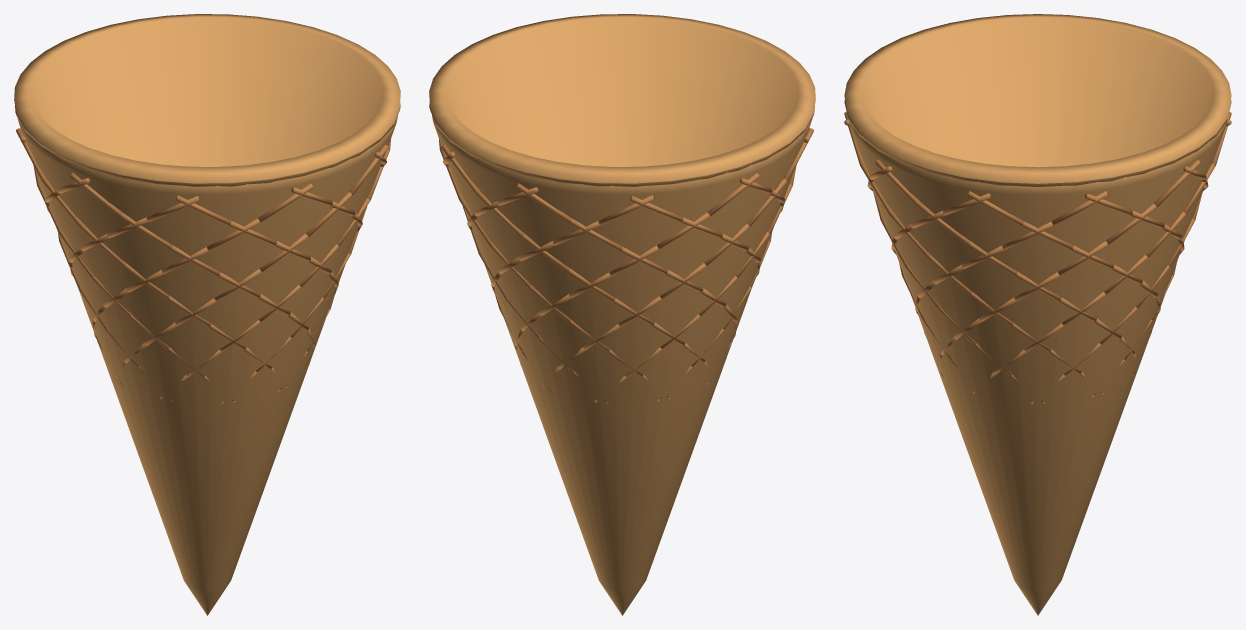
Rendered from Empty_waffle_cone.fbx.
3 views of the same model, side by side, from view 1: azimuth 30°, elevation 25°; view 2: azimuth 150°, elevation 25°; view 3: azimuth 270°, elevation 25° (orthographic).
Parts seen in each view (by area): view 1: Toon_Empty_waffle_cone Waffle cone.001, Toon_Empty_waffle_cone Cone lip.001; view 2: Toon_Empty_waffle_cone Waffle cone.001, Toon_Empty_waffle_cone Cone lip.001; view 3: Toon_Empty_waffle_cone Waffle cone.001, Toon_Empty_waffle_cone Cone lip.001.
Boxes of the visible parts, left/top/right/bottom form: Toon_Empty_waffle_cone Waffle cone.001: left=14, top=14, right=400, bottom=615; Toon_Empty_waffle_cone Cone lip.001: left=15, top=103, right=400, bottom=186; Toon_Empty_waffle_cone Waffle cone.001: left=429, top=14, right=815, bottom=615; Toon_Empty_waffle_cone Cone lip.001: left=429, top=103, right=814, bottom=186; Toon_Empty_waffle_cone Waffle cone.001: left=844, top=14, right=1231, bottom=615; Toon_Empty_waffle_cone Cone lip.001: left=844, top=100, right=1231, bottom=186.
Size of the model in its own units: 11.2 by 16.7 by 11.21.
